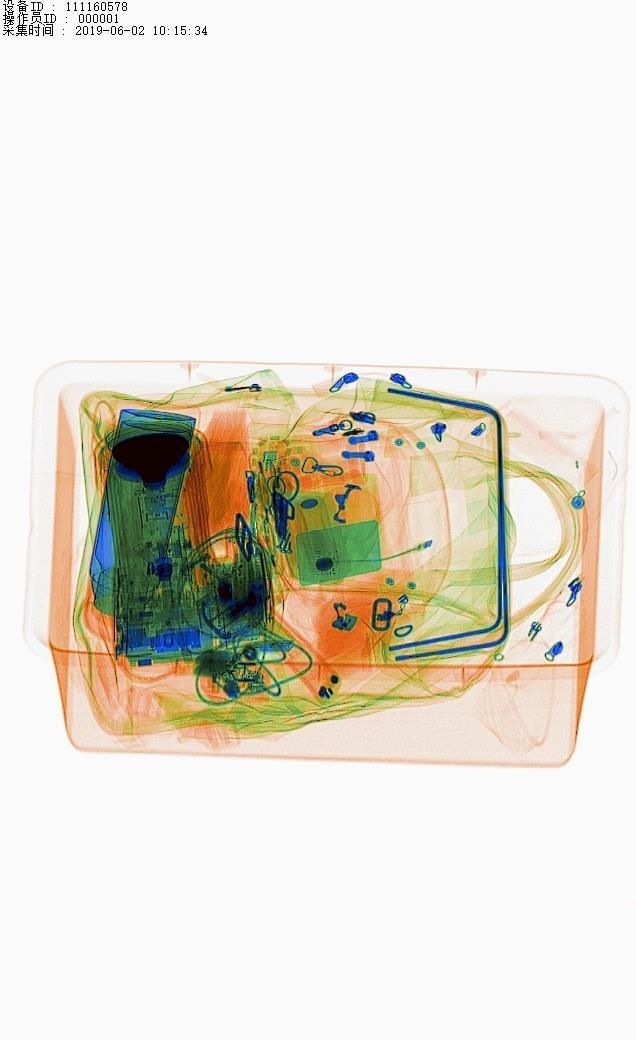NonmetallicFire: (233, 435, 304, 526)
